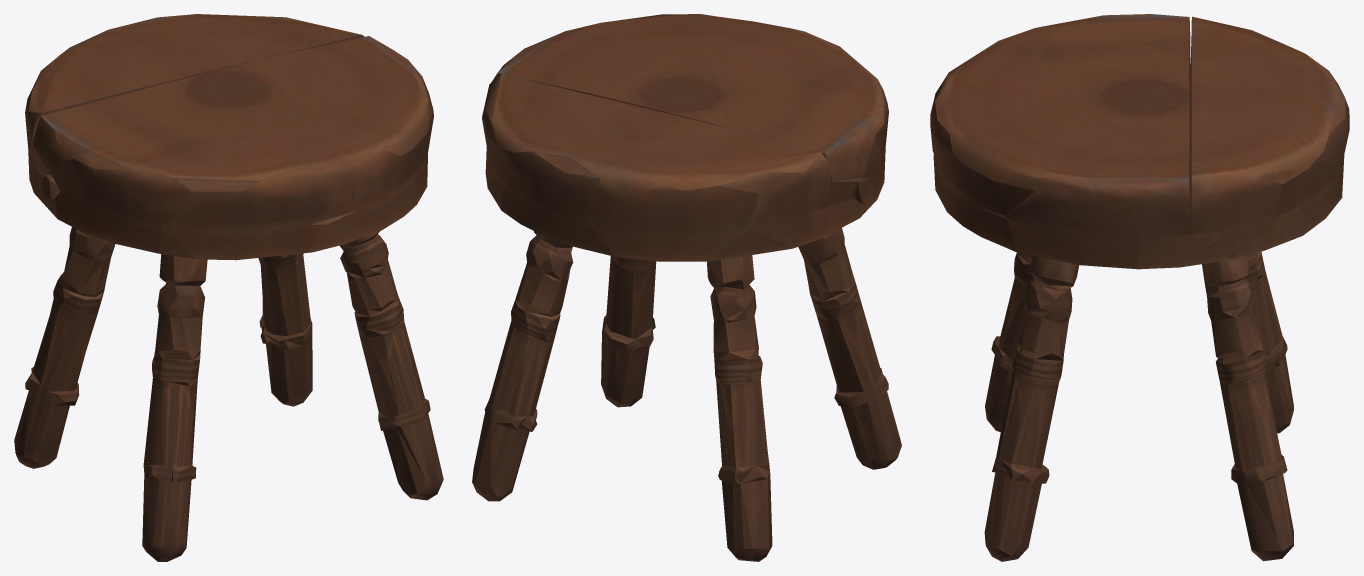
File: stool.glb
The picture shows the model from 3 angles, left to right: view 1: azimuth 30°, elevation 25°; view 2: azimuth 150°, elevation 25°; view 3: azimuth 270°, elevation 25°; orthographic projection. The views are drawn at different scales.
Parts seen in each view (by area): view 1: stool; view 2: stool; view 3: stool.
Part boxes in pixels (x1,y1,x2,y2): stool: (14,14,443,561); stool: (472,14,901,561); stool: (930,14,1349,561).
Bounding box in the file's own units: 0.4416 × 0.46 × 0.4366.
Materials: 1 (1 with a texture image).
